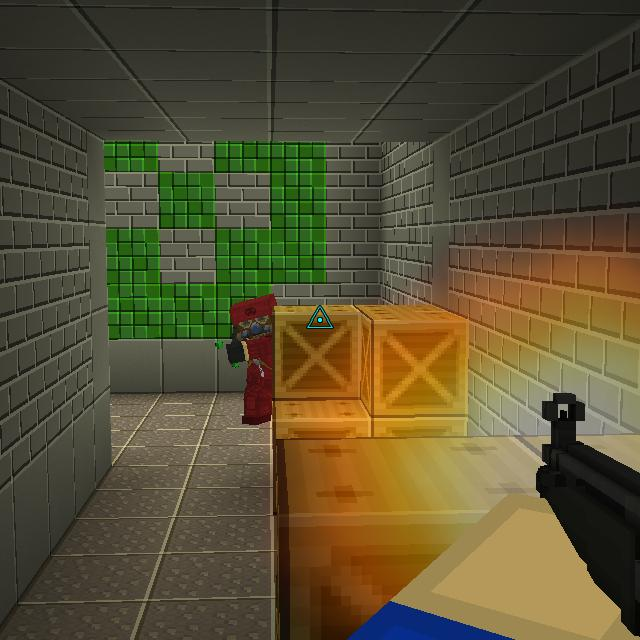enemy: (226, 292, 278, 427)
